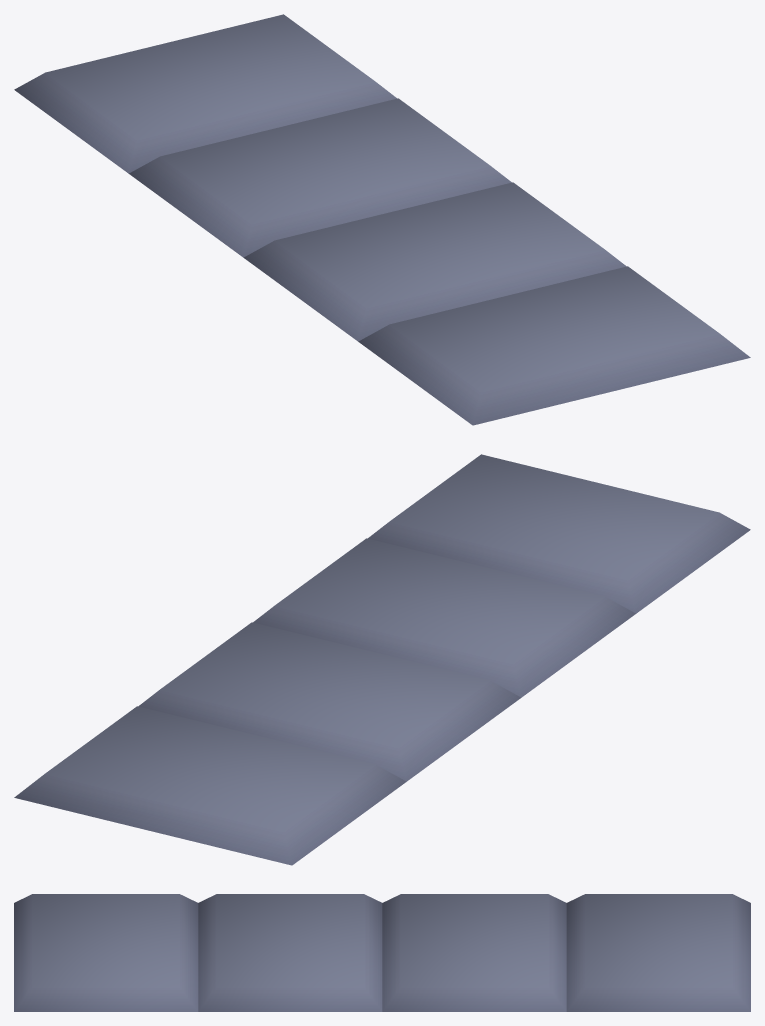
Rendered from kenney-city-suburban-path-stones-long.glb.
3 renders of one model, top to bottom at view 1: azimuth 30°, elevation 25°; view 2: azimuth 150°, elevation 25°; view 3: azimuth 270°, elevation 25°, orthographic. The views are drawn at different scales.
Visible parts, largest first — view 1: path-stones-long; view 2: path-stones-long; view 3: path-stones-long.
Boxes of the visible parts, x1=… form: path-stones-long: x1=14, y1=14, x2=750, y2=425; path-stones-long: x1=14, y1=454, x2=750, y2=865; path-stones-long: x1=14, y1=894, x2=750, y2=1011.
Bounding box in the file's own units: 0.14 × 0.01 × 0.4.
Materials: 1 (1 with a texture image).
